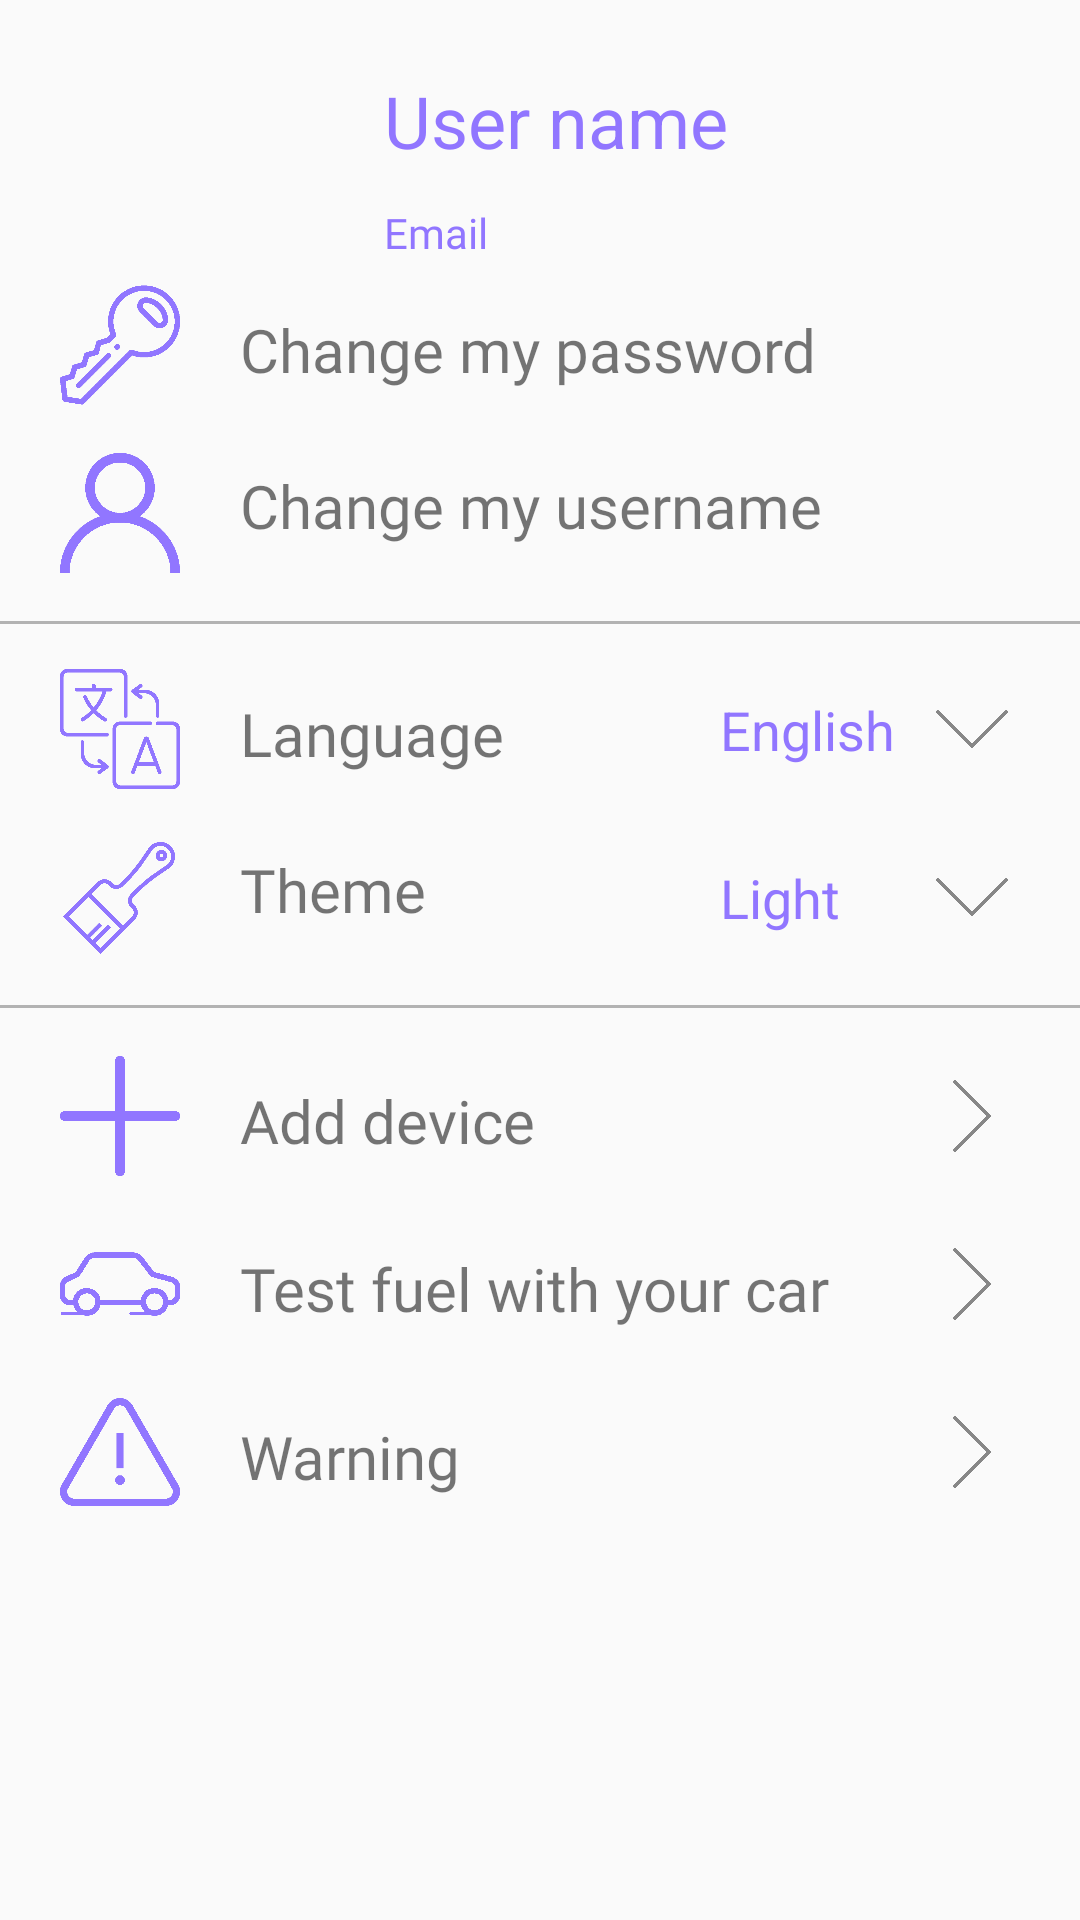

Screen size 1080*1920. Icon name, then its box in pixels as [x1, y1, x2, y2]:
Alert: [60, 1398, 180, 1506]
Key: [60, 285, 180, 405]
Plus icon: [60, 1056, 180, 1176]
User icon: [60, 453, 180, 573]
